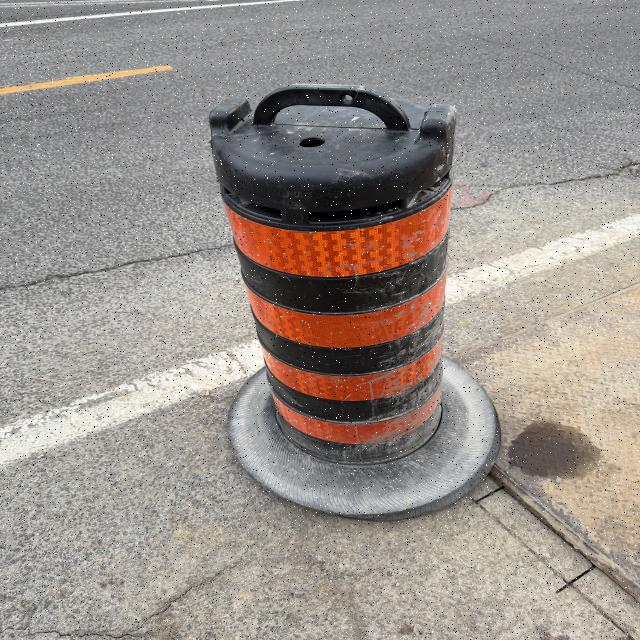Teraffic Barrel: (210, 85, 500, 519)
